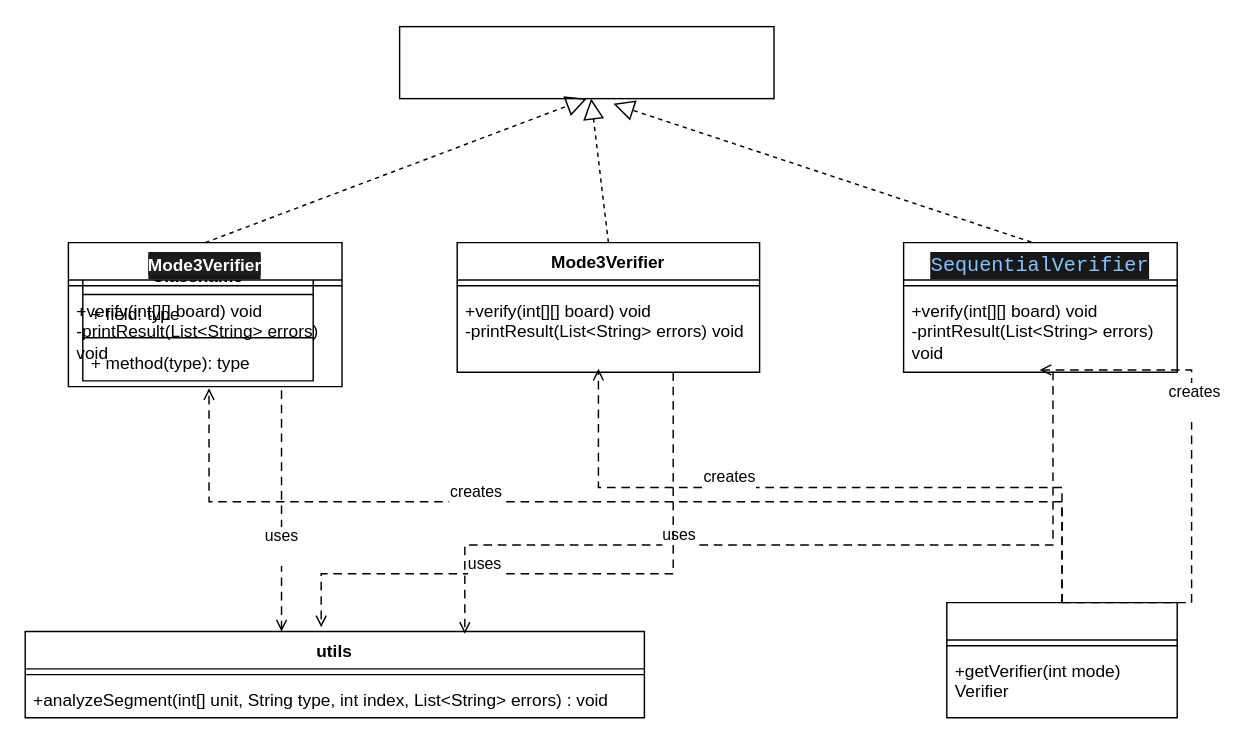
Some shapes in this 1244 by 747 pixel diagram are drawn without their labels. The box of each missing label's shape, as (x1, y1, x2, y2) in pixels:
VerifierFactory: (945, 601, 1177, 718)
«interface» Verifier +verify(int[][] board) void: (398, 25, 774, 99)
